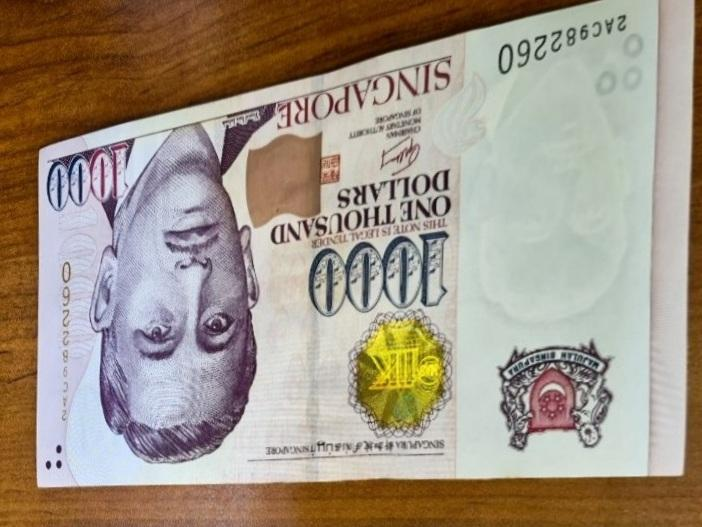1000SingaporeDollar: (45, 13, 681, 472)
